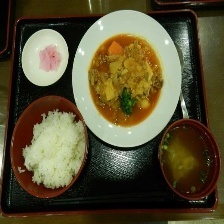rice: (22, 104, 88, 192)
